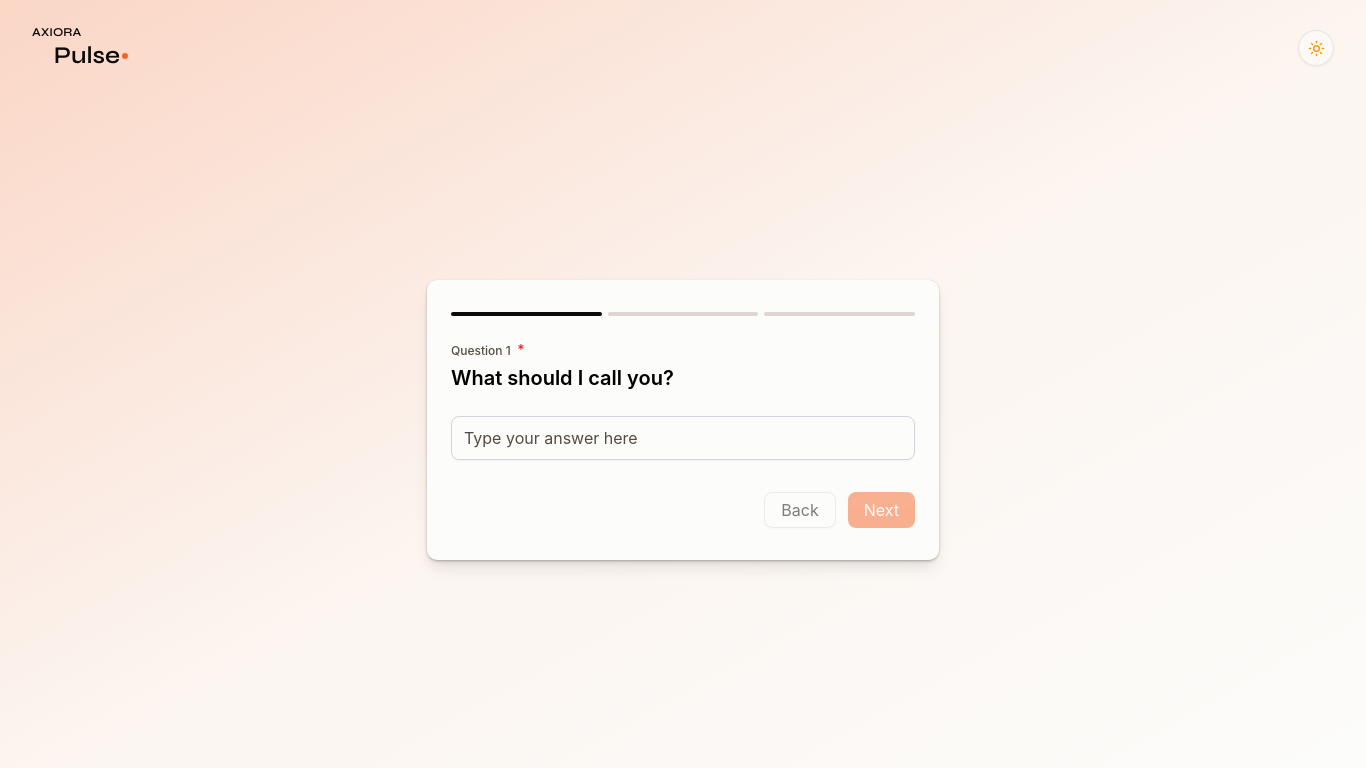
Scenario: InteractiveQuestionsFlow › shows an optional question with a close icon that skips to the next question
This screenshot has width=1366, height=768.
Type "Farhan" into the field with placeholder "Type your answer here".
click(683, 438); type("Farhan")  # box 451,416 -> 915,460
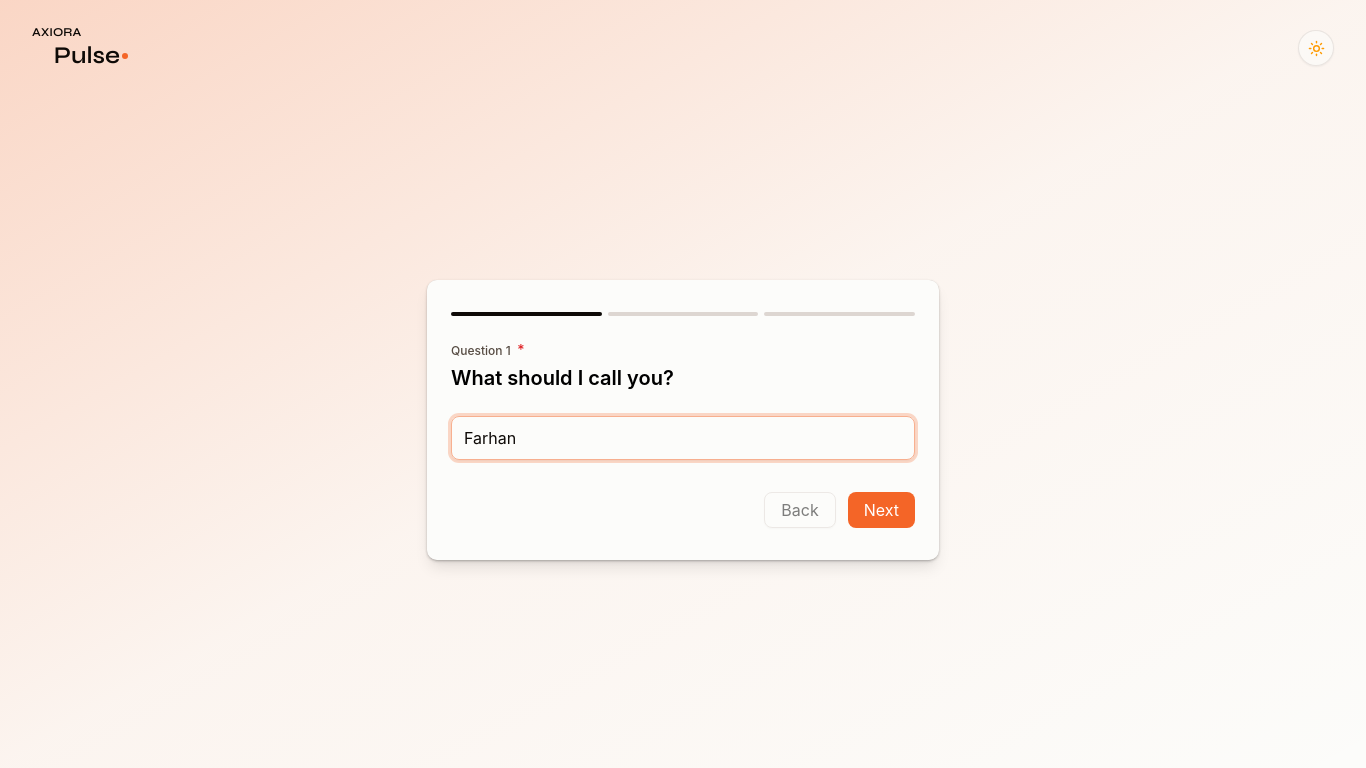
Click the button "Next".
click(881, 510)  # box 848,492 -> 915,528
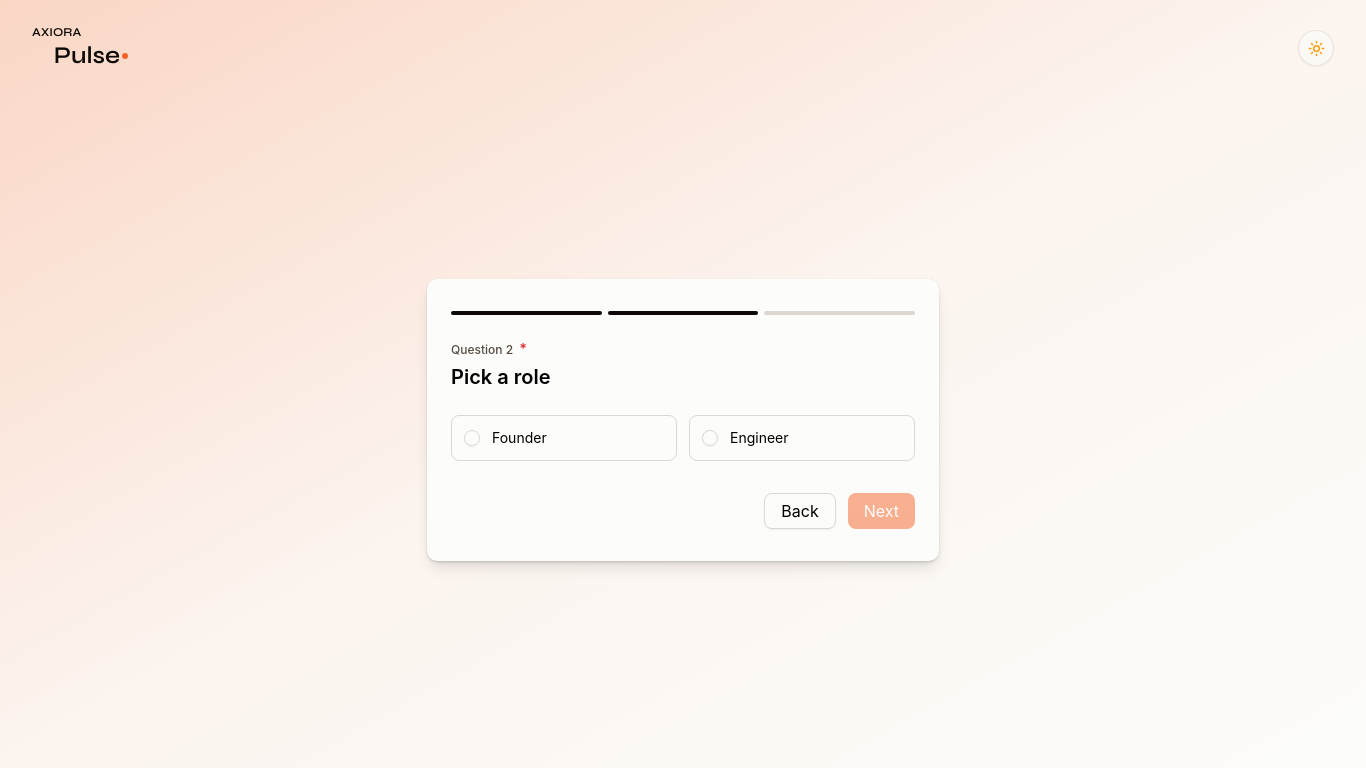
Click the radio button named "Founder" next to "Founder".
click(472, 438)  # box 464,430 -> 480,446
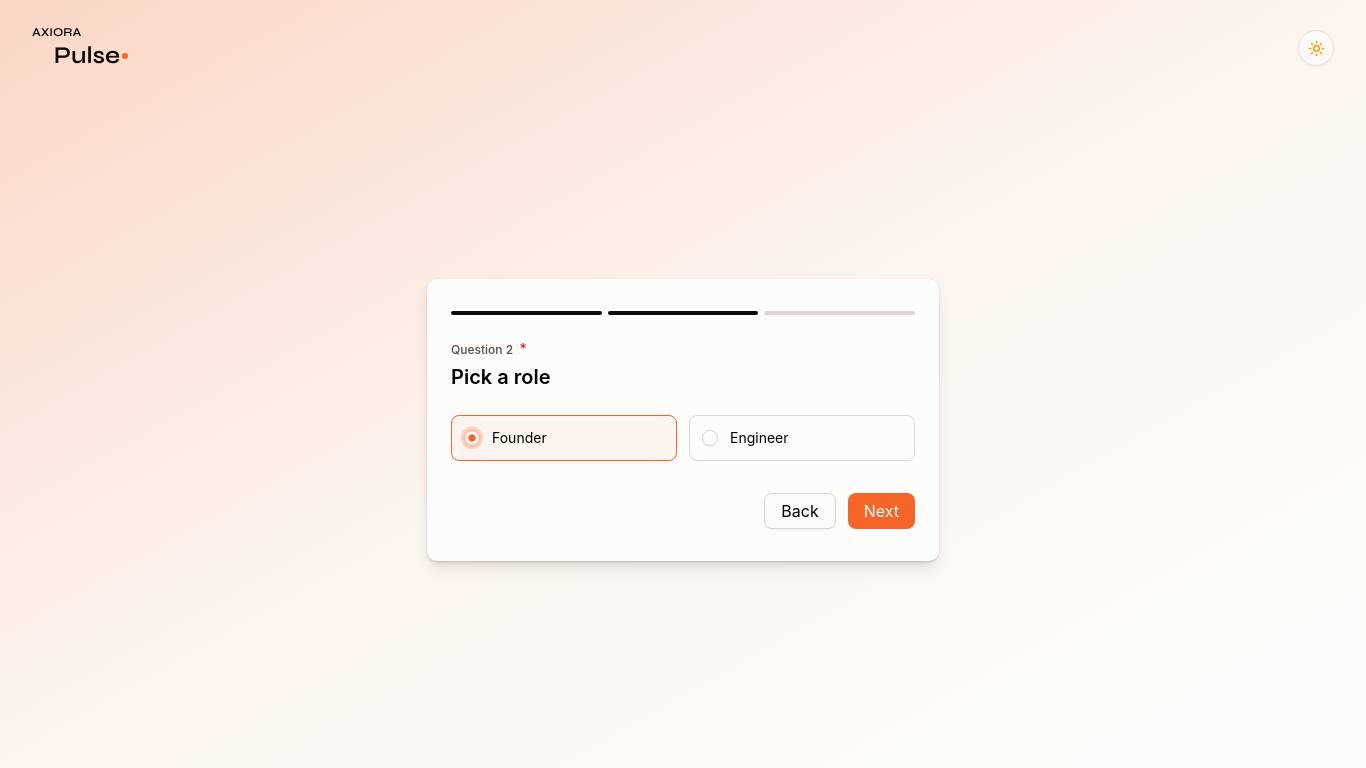
Click the button "Next".
click(881, 511)  # box 848,493 -> 915,529
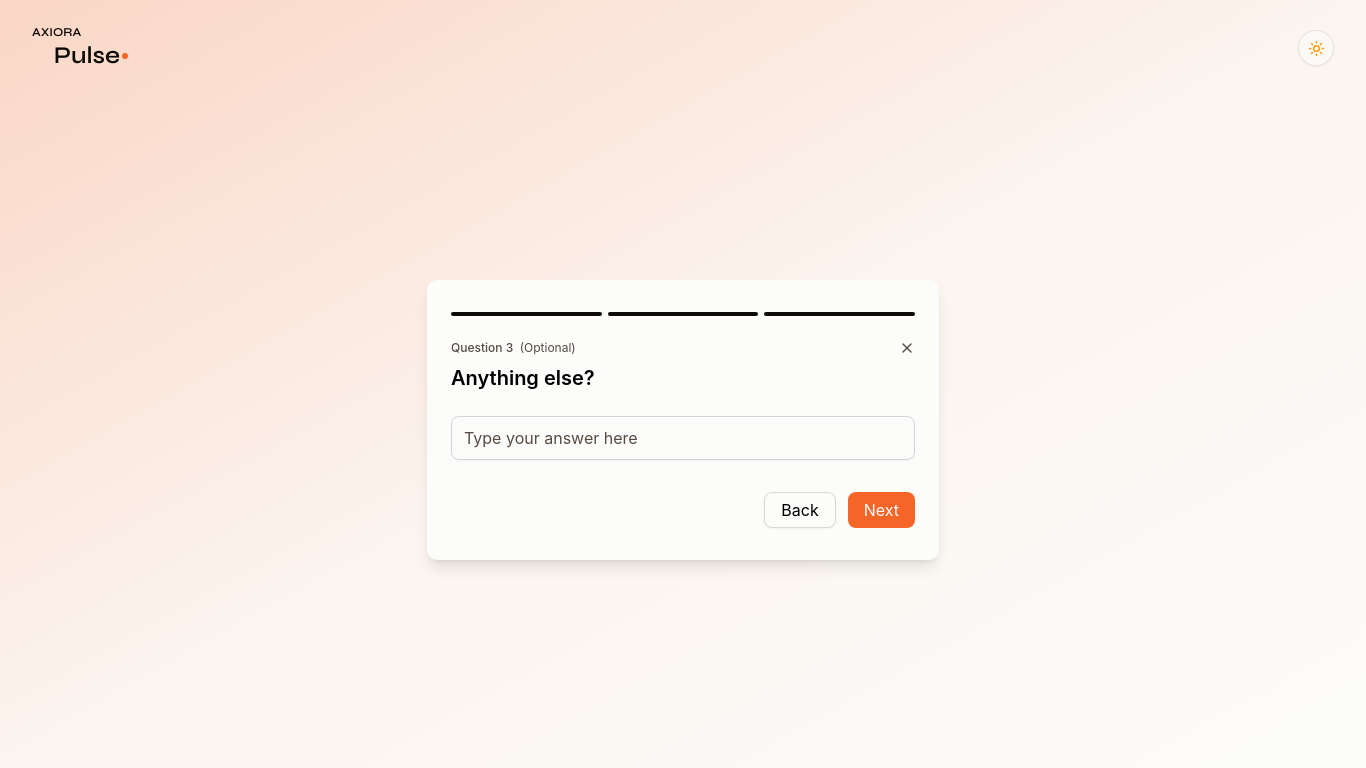
Check: the heading "Anything else?" is shown, box 451,364 -> 595,392
Click the button named "Close".
click(907, 348)  # box 895,336 -> 919,360
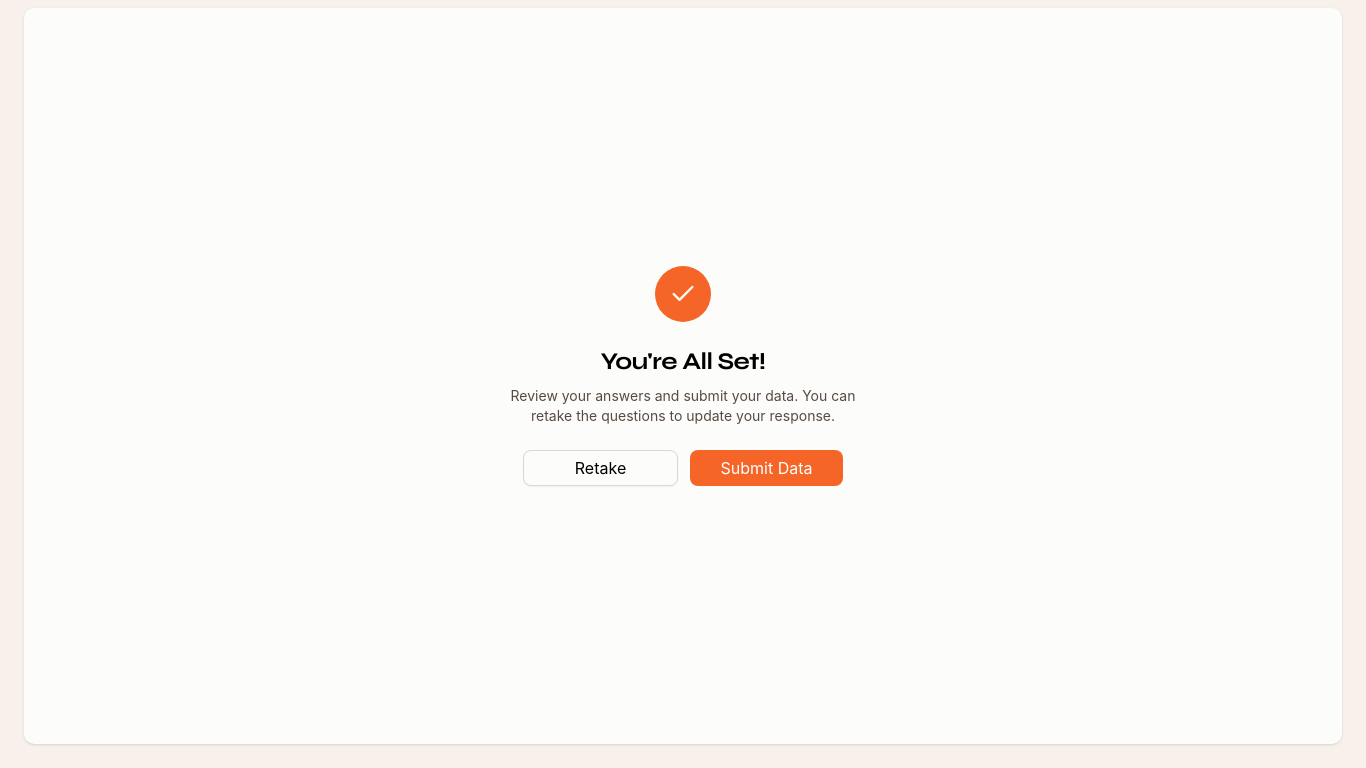
Check: the heading "You're All Set!" is shown, box 600,347 -> 766,376
